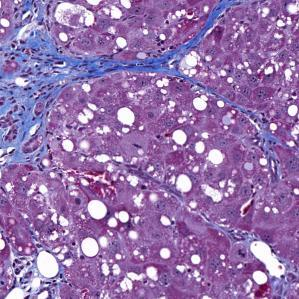fibrosis: (0, 0, 58, 168), (64, 47, 178, 83), (180, 0, 242, 48)
